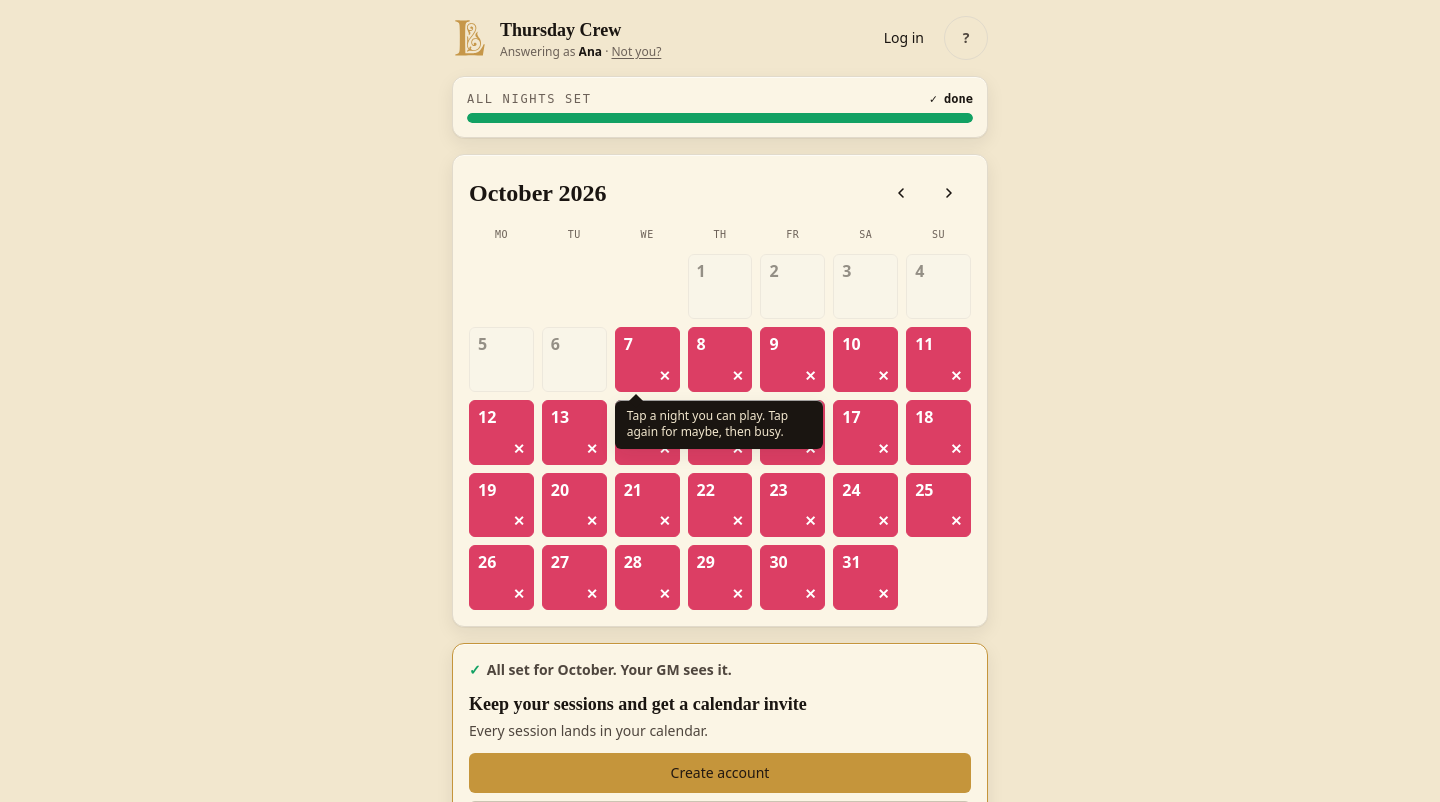
Test: PlayerScreen › moves focus to the kept line once a keep from the done card goes through the sheet
Click the button "Create account": (720,773) x1=469 y1=753 x2=971 y2=793
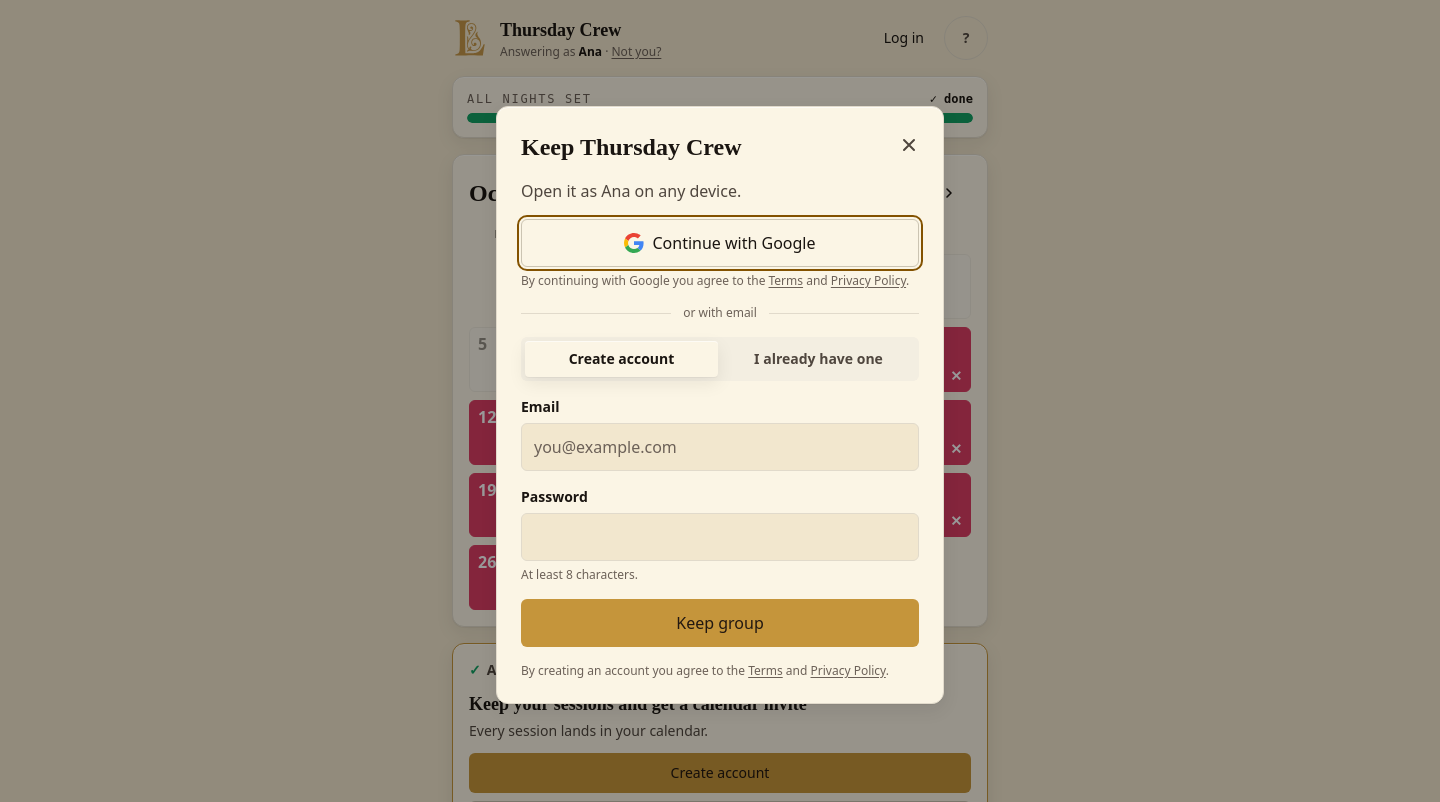
In the field labelled "Email": (720,447) x1=521 y1=423 x2=919 y2=471, type "ana@example.com"
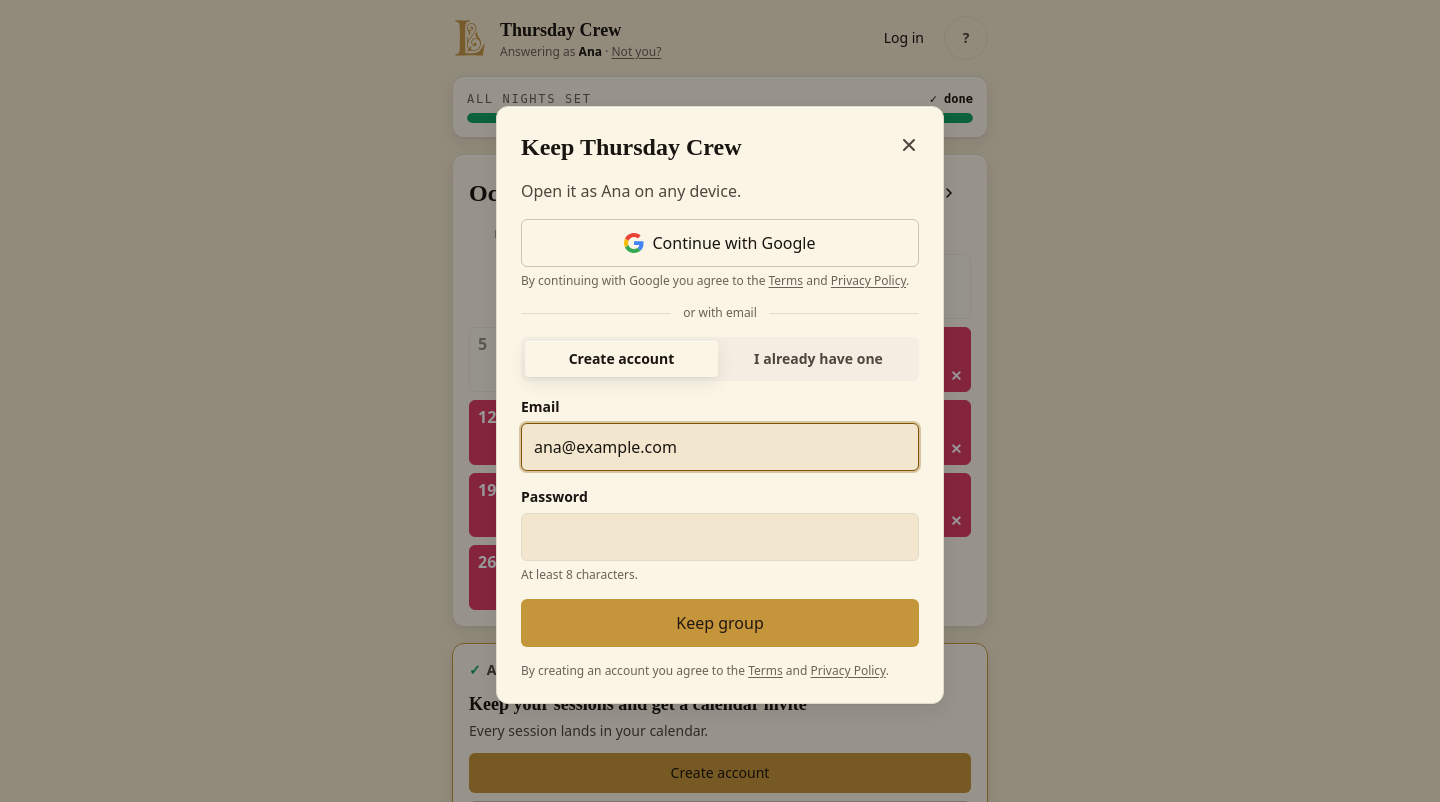
In the password field labelled "Password": (720,537) x1=521 y1=513 x2=919 y2=561, type "game-night-2026"
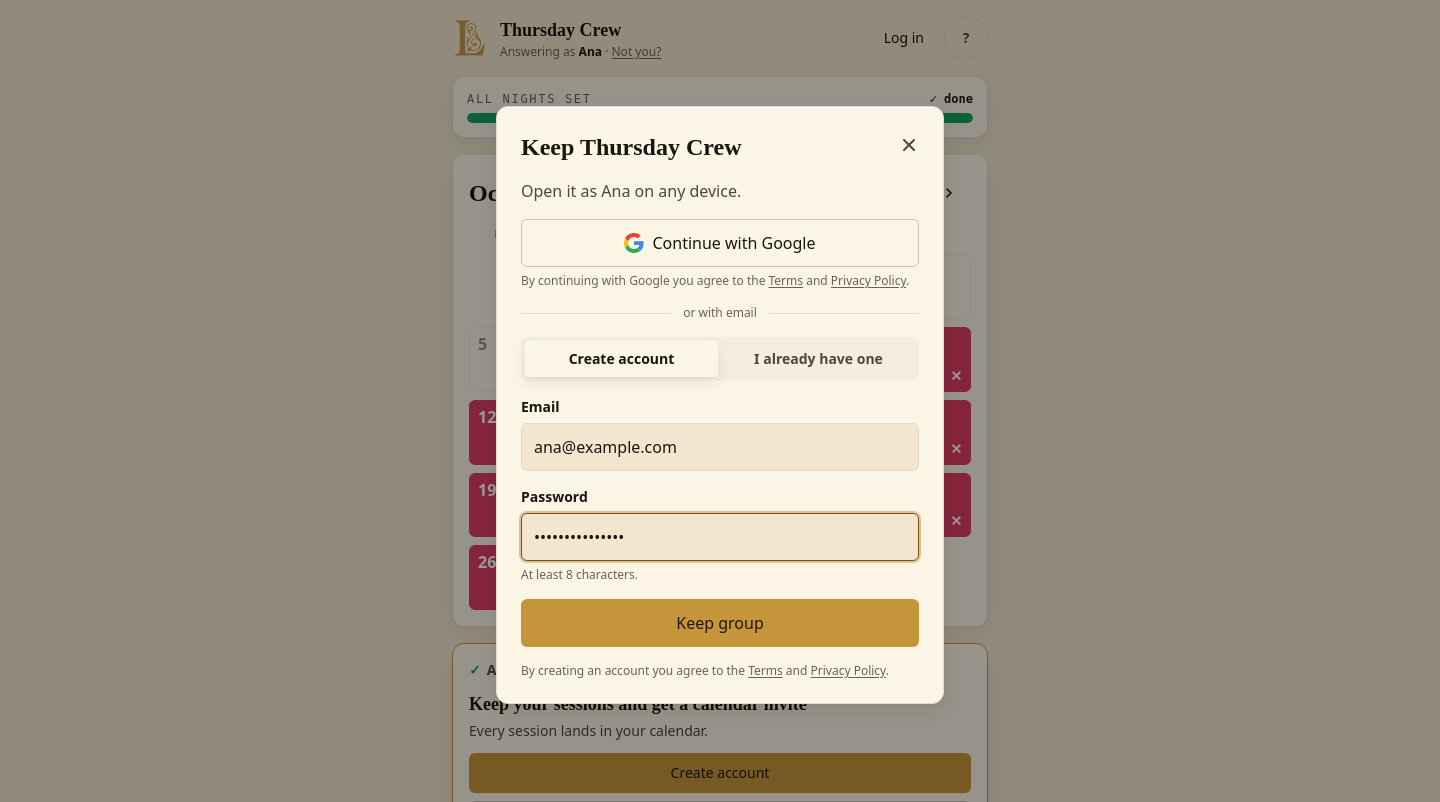
Click the button "Keep group": (720,623) x1=521 y1=599 x2=919 y2=647
(page scrolled)
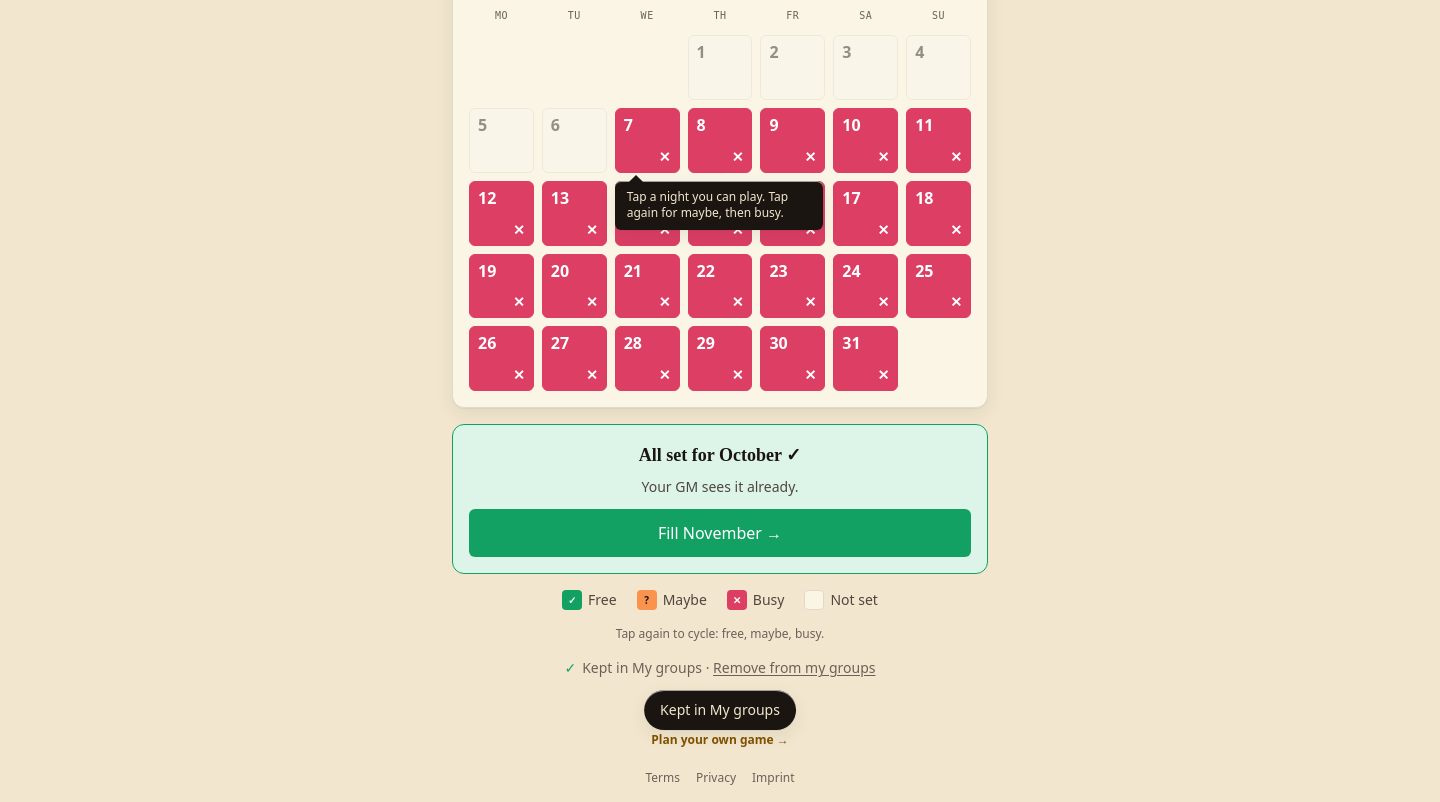
Expected: the text "Kept in My groups" below "Tap again to cycle: free, maybe, busy." is shown, x1=582 y1=658 x2=702 y2=677
